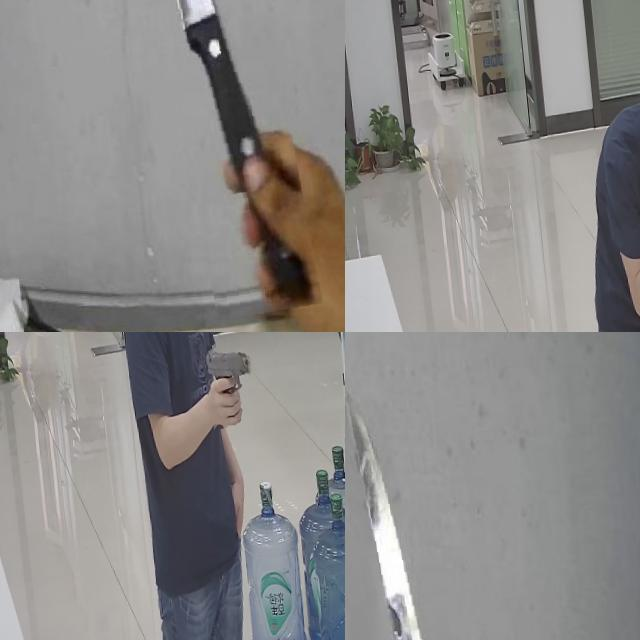-: (126, 0, 299, 325), (345, 356, 463, 640)
gun-knife-thesis - v11 Yolov5 augmented: (197, 347, 254, 436)
